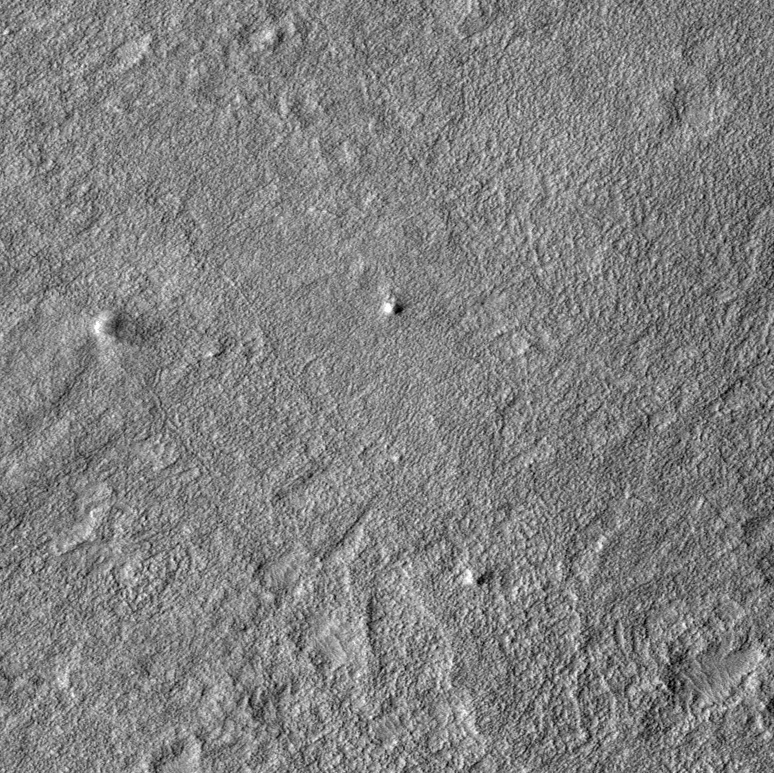dust_devil: (90, 308, 168, 351)
